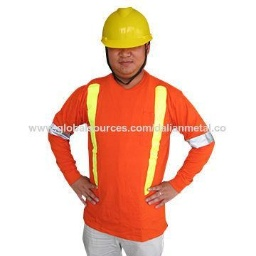helmet: (98, 7, 154, 53)
person: (55, 8, 201, 242)
vest: (54, 72, 195, 245)
